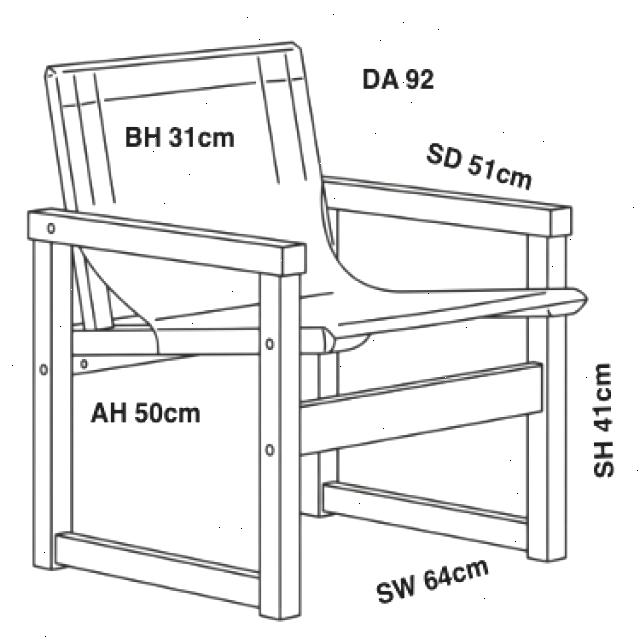AH_Label: (90, 399, 202, 426)
Armrest: (29, 204, 305, 276), (326, 176, 572, 236)
BH_Label: (121, 121, 239, 152)
Backrest: (44, 40, 347, 325)
DA_Label: (358, 64, 436, 93)
Leg_Structure: (30, 240, 304, 624), (299, 238, 570, 563)
SD_Label: (422, 138, 536, 195)
SH_Label: (592, 359, 615, 480)
SW_Label: (373, 553, 492, 608)
Seat: (77, 268, 591, 361)
